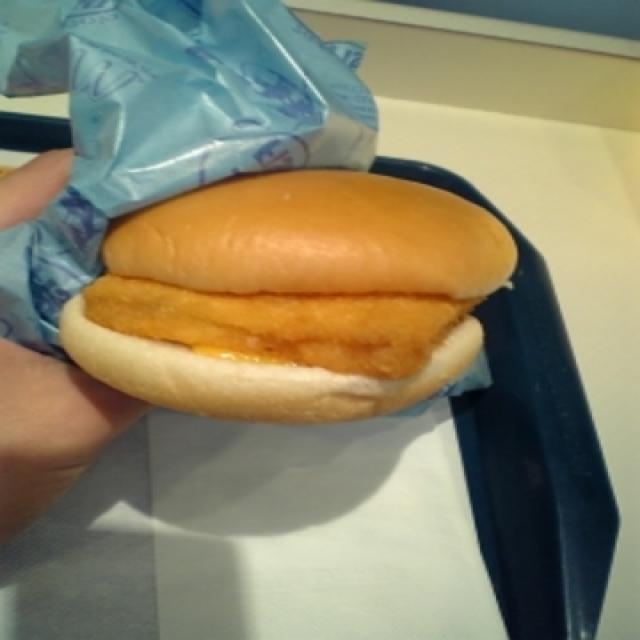汉堡快餐: (76, 161, 502, 436)
